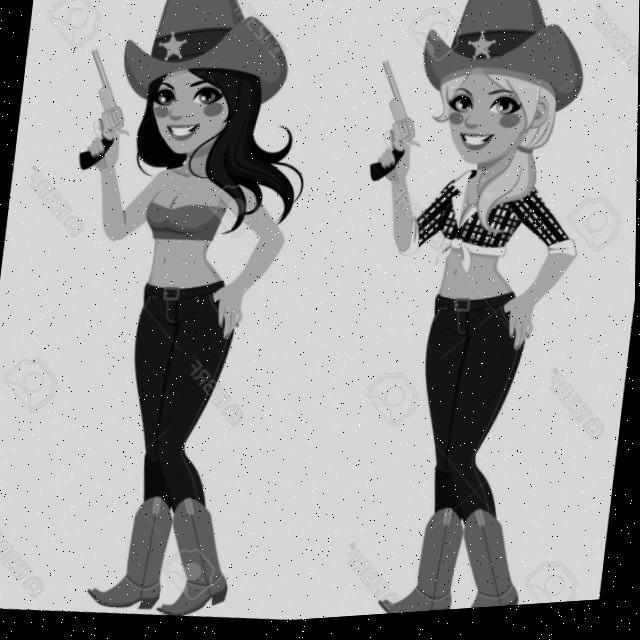pistol: (77, 44, 130, 174), (368, 64, 422, 190)
